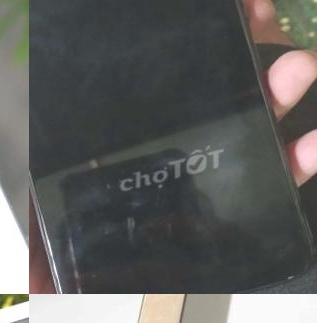scratch: (281, 271, 298, 284)
